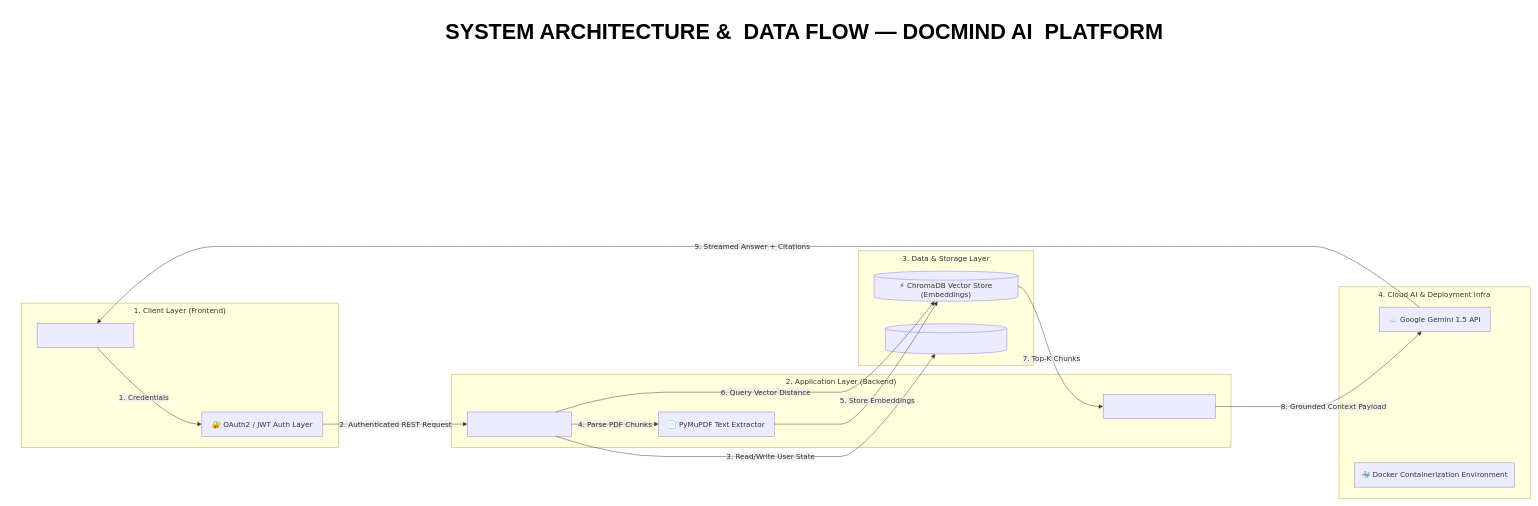
The diagram is 1538 pixels wide and 506 high, and some of its shapes have lost their labels. The shapes that lost their labels are listed below. From the top down, each one's centre as x and y in pixels, then its label:
At (85,335): "💻 React 18 + Vite UI".
At (946,338): "🐘 PostgreSQL (User Data & Auth)".
At (519,424): "⚡ FastAPI REST Engine".
At (1159,406): "🧠 RAG Synthesis Pipeline".
